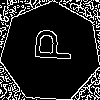P: (26, 27, 72, 63)
